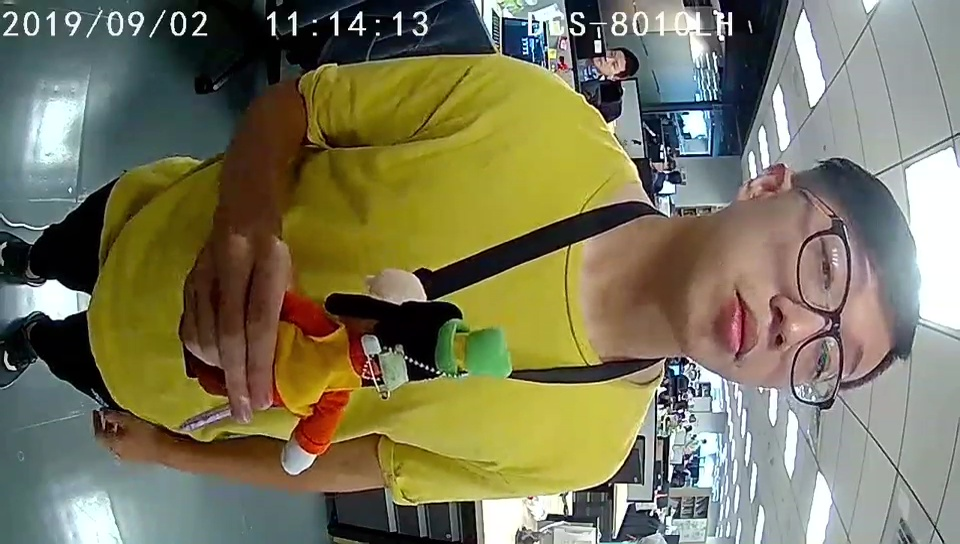goofy: (279, 289, 514, 476)
